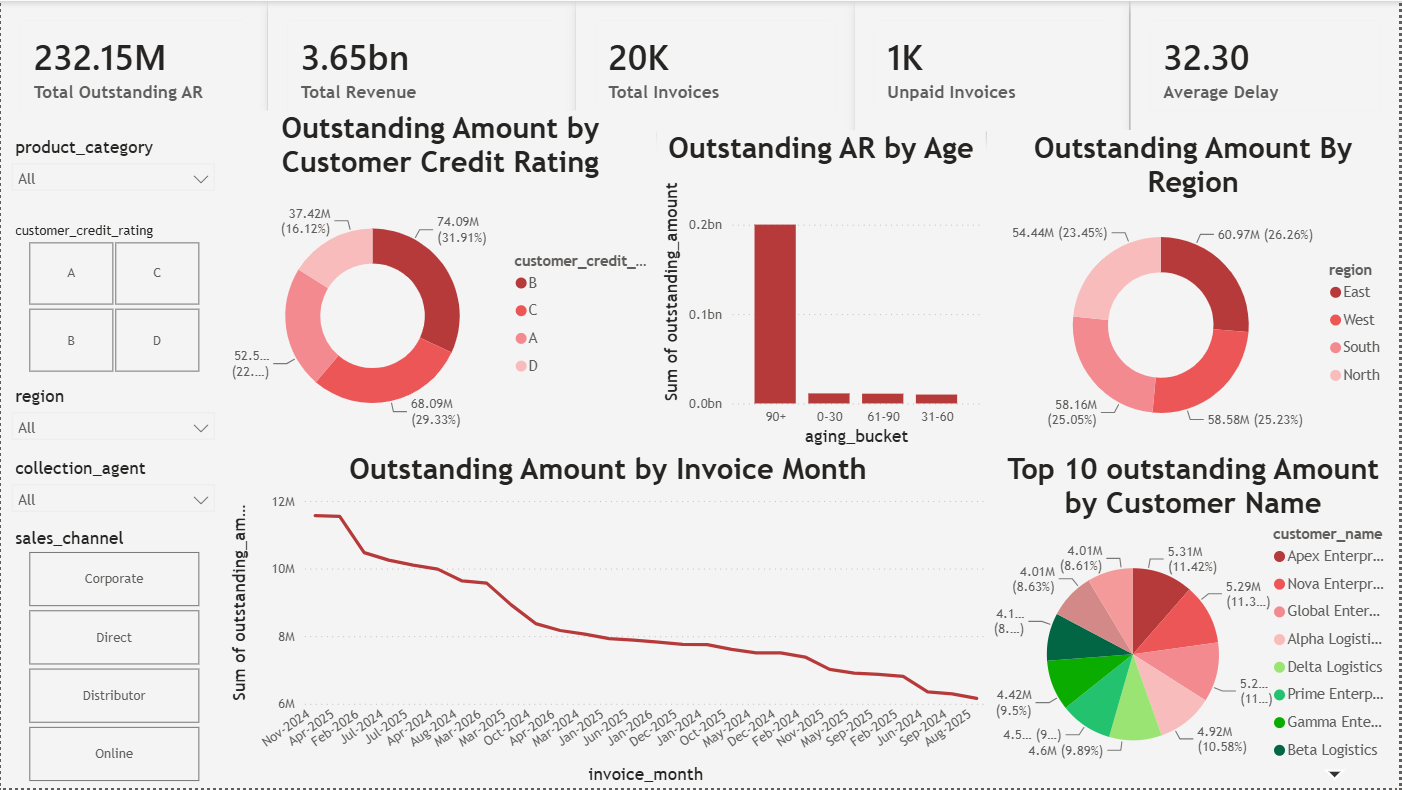

This screenshot's page, from the dashboard's own definition file:
{"tool":"powerbi","page":{"name":"Executive Dashboard","canvas":[1280,720],"ordinal":0},"visuals":[{"type":"cardVisual","title":"Total Outstanding AR","fields":{"Data":["invoices.Total Outstanding AR"]},"box":[0,0,243.8,119.1],"z":0},{"type":"cardVisual","title":"Total Revenue","fields":{"Data":["invoices.Total Revenue"]},"box":[243.8,0,281.6,119.1],"z":1000},{"type":"cardVisual","title":"Total Invoices","fields":{"Data":["invoices.Total Invoices"]},"box":[525.4,0,255.1,119.1],"z":2000},{"type":"cardVisual","title":"Unpaid Invoices","fields":{"Data":["invoices.Unpaid Invoices"]},"box":[780.5,0,251.3,119.1],"z":3000},{"type":"cardVisual","title":"Average Delay (Days)","fields":{"Data":["invoices.Average Delay"]},"box":[1032.9,0,246.5,118.5],"z":4000},{"type":"clusteredColumnChart","title":"Outstanding AR by Age","fields":{"Category":["invoices.aging_bucket"],"Y":["Sum(invoices.outstanding_amount)"]},"box":[600.2,118.5,301,293.5],"z":5000},{"type":"pieChart","title":"Top 10 outstanding Amount by Customer Name","fields":{"Category":["customers.customer_name"],"Y":["Sum(invoices.outstanding_amount)"]},"box":[901.2,412,378.2,308.6],"z":6000},{"type":"donutChart","title":"Outstanding Amount by Customer Credit Rating","fields":{"Category":["customers.customer_credit_rating"],"Y":["Sum(invoices.outstanding_amount)"]},"box":[205.1,99.7,395.1,312.3],"z":7000},{"type":"donutChart","title":"Outstanding Amount By Region","fields":{"Category":["customers.region"],"Y":["Sum(invoices.outstanding_amount)"]},"box":[901.2,118.5,378.2,293.5],"z":8000},{"type":"lineChart","title":"Outstanding Amount by Invoice Month","fields":{"Y":["Sum(invoices.outstanding_amount)"],"Category":["invoices.invoice_month"]},"box":[205.1,412,701.8,308.6],"z":9000},{"type":"slicer","fields":{"Values":["customers.customer_credit_rating"]},"box":[0,197.6,205.1,148.6],"z":10000},{"type":"slicer","fields":{"Values":["customers.region"]},"box":[0,346.2,205.1,65.9],"z":11000},{"type":"slicer","fields":{"Values":["invoices.sales_channel"]},"box":[0,476,205.1,244.6],"z":12000},{"type":"slicer","fields":{"Values":["invoices.product_category"]},"box":[0,118.5,205.1,79],"z":13000},{"type":"slicer","fields":{"Values":["invoices.collection_agent"]},"box":[0,412,205.1,64],"z":14000}]}

Visuals, with their boxes in screenshot pixels (x1, y1, x2, y2), scaled from the page's 1280x720 canvas onto the 1402x790 screenshot:
"Total Outstanding AR" cardVisual: select_region(0, 0, 267, 131)
"Total Revenue" cardVisual: select_region(267, 0, 575, 131)
"Total Invoices" cardVisual: select_region(575, 0, 855, 131)
"Unpaid Invoices" cardVisual: select_region(855, 0, 1130, 131)
"Average Delay (Days)" cardVisual: select_region(1131, 0, 1401, 130)
"Outstanding AR by Age" clusteredColumnChart: select_region(657, 130, 987, 452)
"Top 10 outstanding Amount by Customer Name" pieChart: select_region(987, 452, 1401, 789)
"Outstanding Amount by Customer Credit Rating" donutChart: select_region(225, 109, 657, 452)
"Outstanding Amount By Region" donutChart: select_region(987, 130, 1401, 452)
"Outstanding Amount by Invoice Month" lineChart: select_region(225, 452, 993, 789)
slicer - customers.customer_credit_rating: select_region(0, 217, 225, 380)
slicer - customers.region: select_region(0, 380, 225, 452)
slicer - invoices.sales_channel: select_region(0, 522, 225, 789)
slicer - invoices.product_category: select_region(0, 130, 225, 217)
slicer - invoices.collection_agent: select_region(0, 452, 225, 522)
